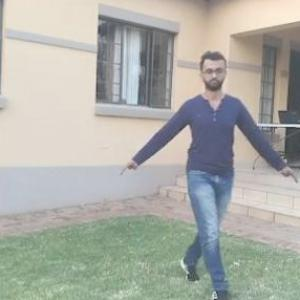land: (131, 68, 264, 263)
